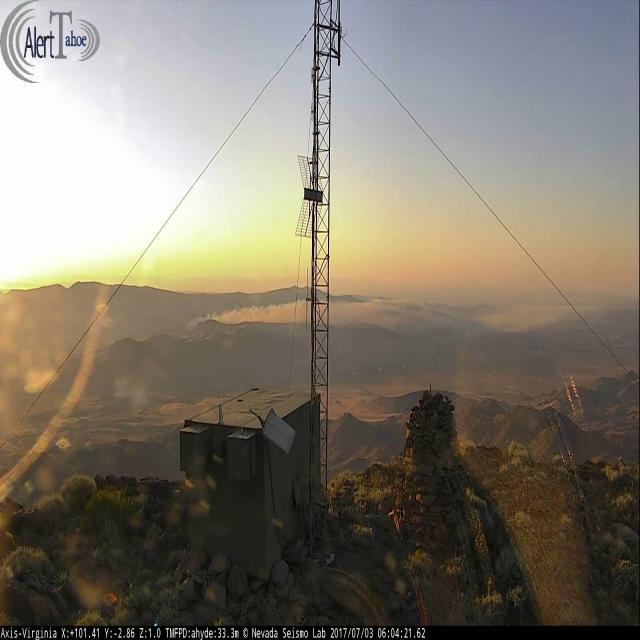smoke: (179, 296, 449, 333)
